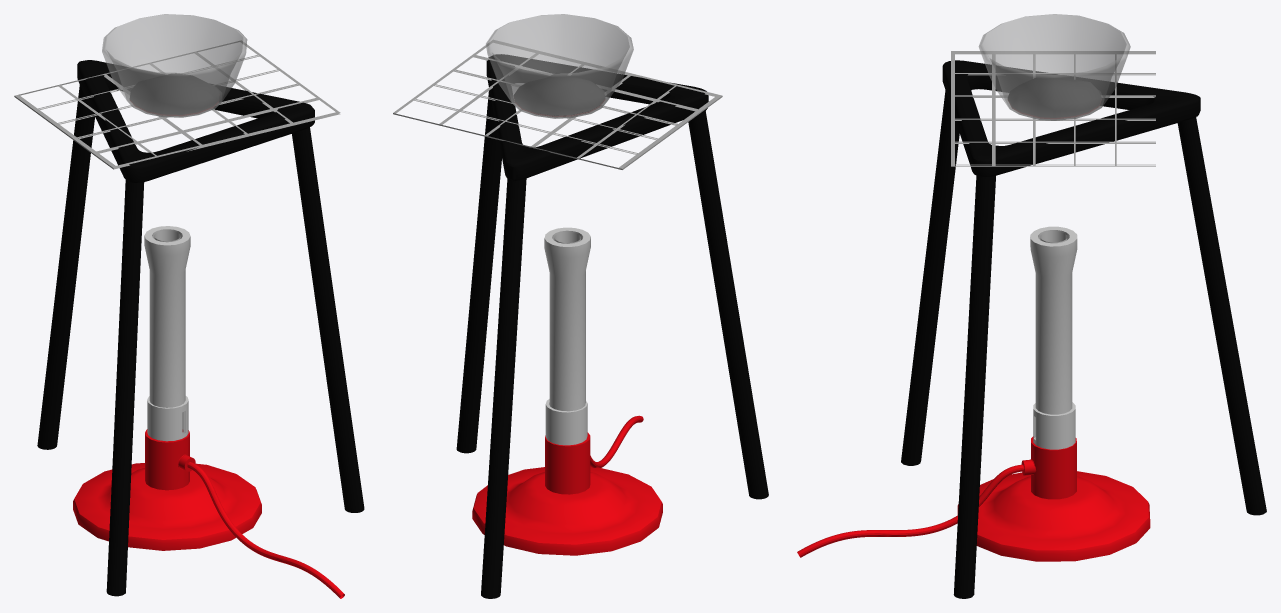
The model's file is oxidadtion_experiment.fbx.
The picture shows the model from 3 angles, left to right: view 1: azimuth 30°, elevation 25°; view 2: azimuth 150°, elevation 25°; view 3: azimuth 270°, elevation 25°; orthographic projection. The views are drawn at different scales.
Visible parts, largest first — view 1: Tripod, bunsen_burner, polySurface5, grill, polySurface7; view 2: Tripod, bunsen_burner, polySurface5, grill, polySurface7; view 3: Tripod, bunsen_burner, polySurface5, grill, polySurface7.
Part boxes in pixels (box(x1,y1,x2,y2)): Tripod: box(37, 60, 364, 596); bunsen_burner: box(73, 226, 344, 598); polySurface5: box(102, 14, 247, 117); grill: box(14, 40, 340, 169); polySurface7: box(130, 73, 219, 114); Tripod: box(456, 54, 768, 598); bunsen_burner: box(472, 227, 662, 555); polySurface5: box(486, 14, 633, 118); grill: box(393, 40, 722, 169); polySurface7: box(514, 72, 605, 115); Tripod: box(901, 60, 1266, 598); bunsen_burner: box(797, 226, 1150, 561); polySurface5: box(978, 14, 1130, 120); grill: box(951, 51, 1155, 166); polySurface7: box(1008, 78, 1101, 117).
Bounding box in the file's own units: 38.48 × 62.26 × 53.98.
